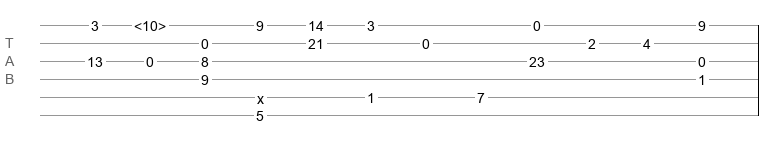0: (146, 54, 154, 64), (201, 36, 209, 46), (422, 36, 430, 46), (533, 18, 541, 28), (698, 54, 706, 64)
1: (367, 90, 375, 100), (698, 72, 706, 82)
13: (87, 54, 103, 64)
14: (308, 18, 324, 28)
2: (588, 36, 596, 46)
21: (308, 36, 324, 46)
23: (529, 54, 545, 64)
3: (91, 18, 99, 28), (367, 18, 375, 28)
4: (643, 36, 651, 46)
5: (256, 108, 264, 118)
7: (477, 90, 485, 100)
8: (201, 54, 209, 64)
9: (201, 72, 209, 82), (256, 18, 264, 28), (698, 18, 706, 28)
harmonic: (134, 18, 166, 28)
x: (257, 91, 264, 99)
